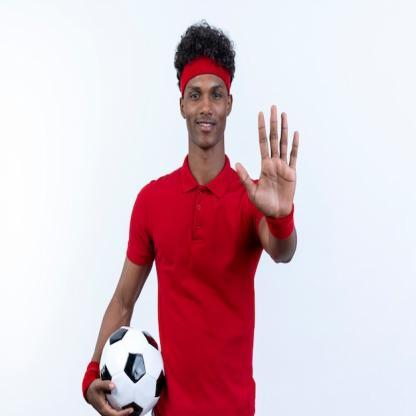stop: (232, 102, 302, 223)
